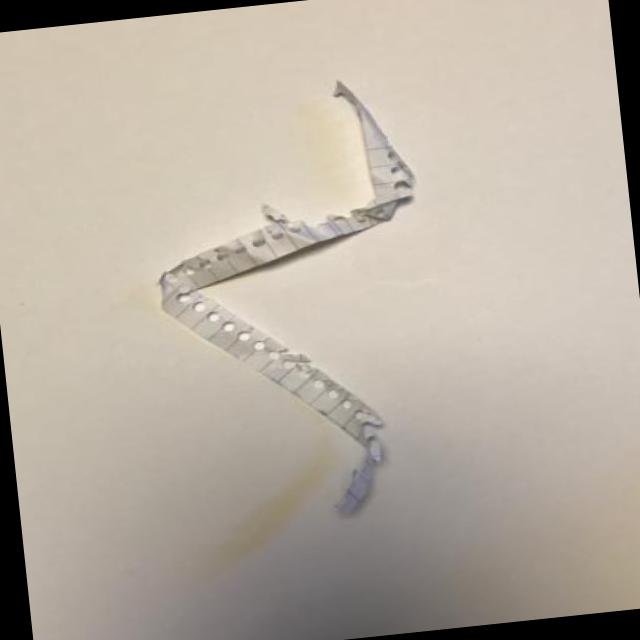paper: (159, 82, 413, 515)
